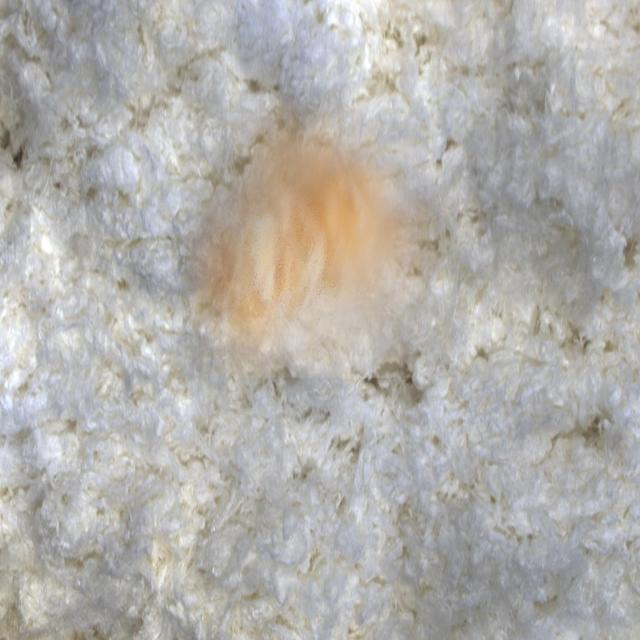dust: (182, 74, 455, 378)
